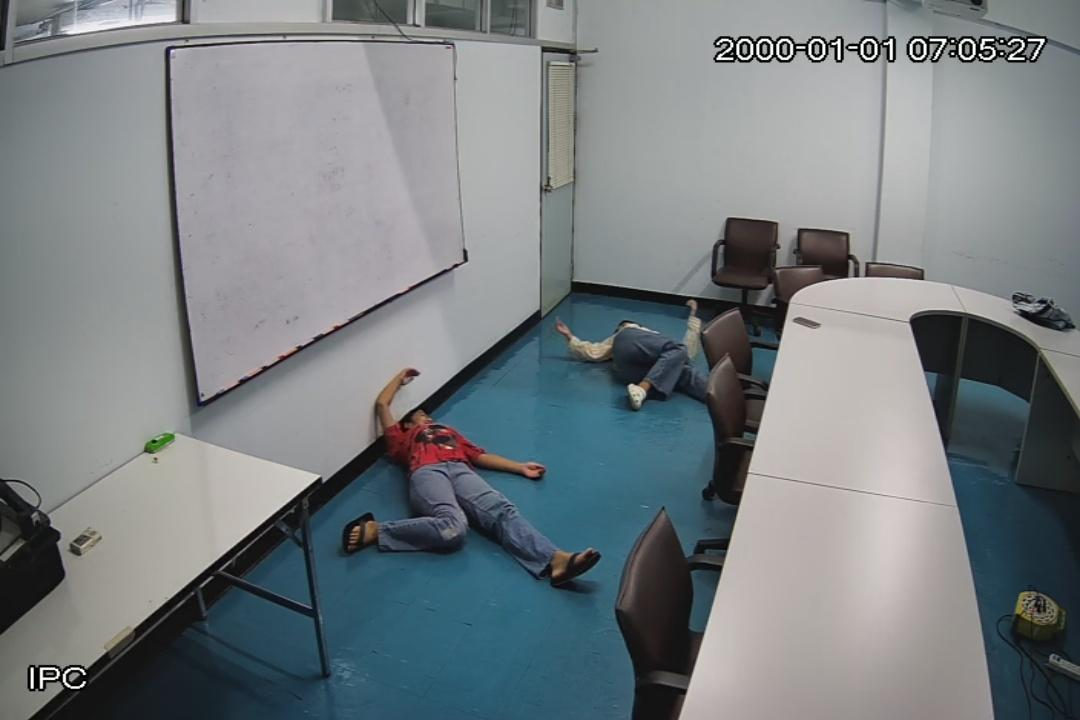fall: (350, 366, 597, 589), (556, 302, 700, 405)
